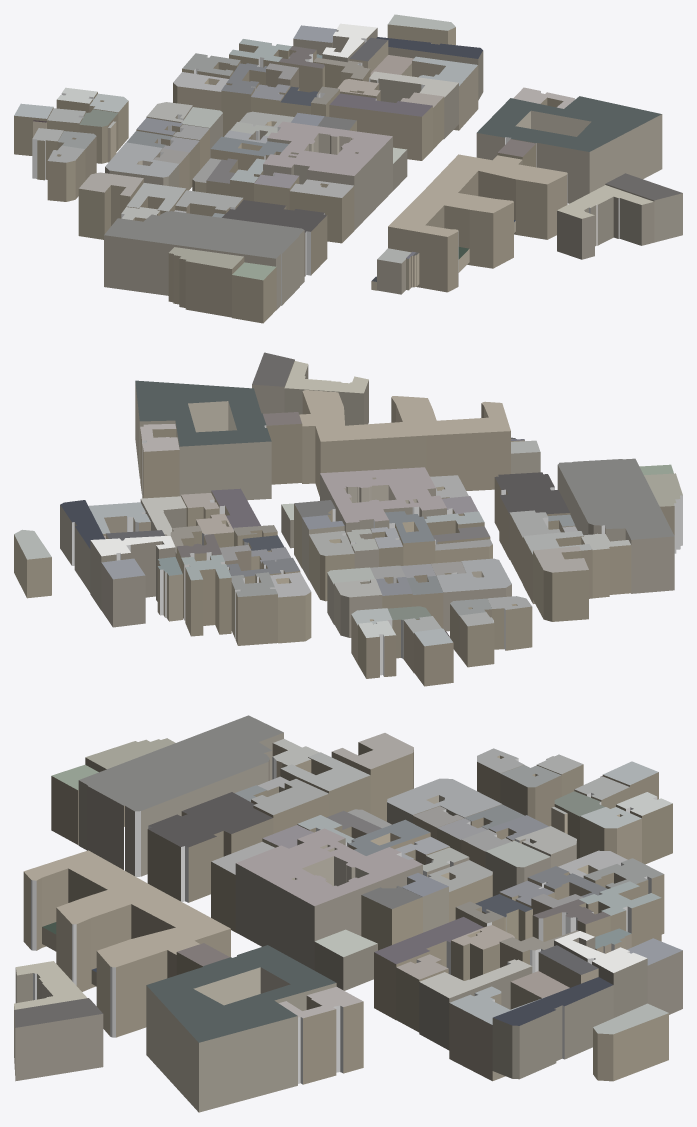
3 views of the same model, one above another, from view 1: azimuth 30°, elevation 25°; view 2: azimuth 150°, elevation 25°; view 3: azimuth 270°, elevation 25° (orthographic). The views are drawn at different scales.
Visible parts, largest first — view 1: tuile; view 2: tuile; view 3: tuile.
Part boxes in pixels (x1,y1,x2,y2): tuile: [14, 14, 682, 323]; tuile: [14, 352, 682, 686]; tuile: [14, 715, 682, 1112].
Size of the model in its own units: 313 by 35.31 by 266.
